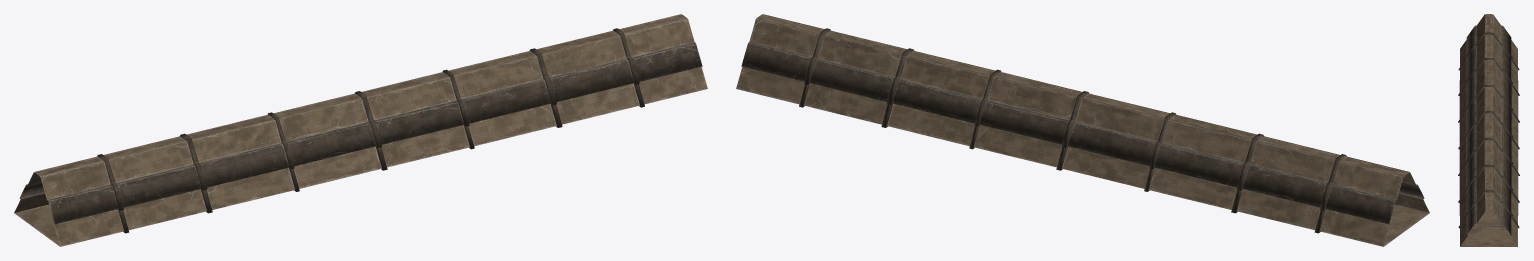
The model's file is PasilloLaser.fbx.
3 views of the same model, side by side, from view 1: azimuth 30°, elevation 25°; view 2: azimuth 150°, elevation 25°; view 3: azimuth 270°, elevation 25° (orthographic). The views are drawn at different scales.
Visible parts, largest first — view 1: laser low; view 2: laser low; view 3: laser low.
Boxes of the visible parts, x1=… form: laser low: x1=14, y1=14, x2=707, y2=246; laser low: x1=736, y1=14, x2=1429, y2=246; laser low: x1=1458, y1=14, x2=1519, y2=246.
Bounding box in the file's own units: 3484 × 300 × 458.
1 material, 1 textured.
